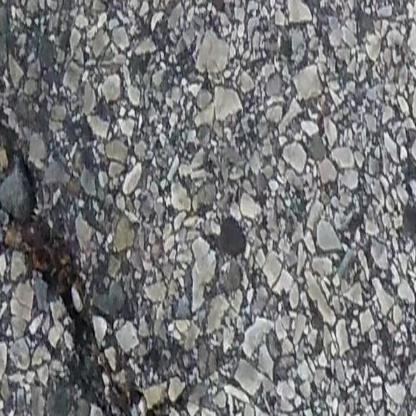Cracks: (0, 97, 201, 416)
